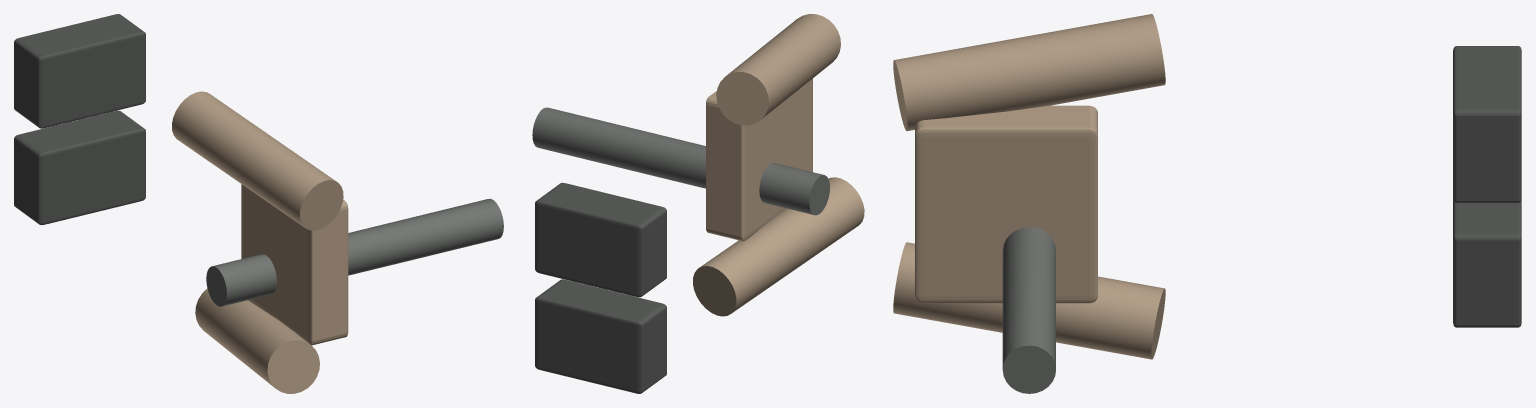
Rendered from d-u10-dominion-operator-lod2.glb.
3 renders of one model, left to right at view 1: azimuth 30°, elevation 25°; view 2: azimuth 150°, elevation 25°; view 3: azimuth 270°, elevation 25°, orthographic. The views are drawn at different scales.
Parts seen in each view (by area): view 1: soldier_0_boot_1, soldier_0_boot_-1, soldier_0_chest, soldier_0_arm_1, soldier_0_rifle, soldier_0_arm_-1; view 2: soldier_0_boot_-1, soldier_0_boot_1, soldier_0_chest, soldier_0_rifle, soldier_0_arm_-1, soldier_0_arm_1; view 3: soldier_0_chest, soldier_0_arm_1, soldier_0_boot_1, soldier_0_arm_-1, soldier_0_boot_-1, soldier_0_rifle.
Part boxes in pixels (x1,y1,x2,y2): soldier_0_boot_1: (14, 14, 145, 128); soldier_0_boot_-1: (14, 110, 145, 225); soldier_0_chest: (241, 184, 348, 345); soldier_0_arm_1: (172, 91, 343, 230); soldier_0_rifle: (206, 198, 503, 306); soldier_0_arm_-1: (195, 288, 319, 393); soldier_0_boot_-1: (535, 279, 666, 393); soldier_0_boot_1: (535, 182, 666, 297); soldier_0_chest: (706, 78, 812, 241); soldier_0_rifle: (532, 107, 829, 215); soldier_0_arm_-1: (693, 177, 864, 316); soldier_0_arm_1: (716, 14, 840, 125); soldier_0_chest: (915, 105, 1097, 303); soldier_0_arm_1: (893, 14, 1165, 131); soldier_0_boot_1: (1453, 46, 1521, 202); soldier_0_arm_-1: (893, 242, 1165, 359); soldier_0_boot_-1: (1453, 198, 1521, 327); soldier_0_rifle: (1002, 227, 1055, 393).
Size of what is drawn, in the model's own units: 1.13 by 0.9312 by 1.65.
